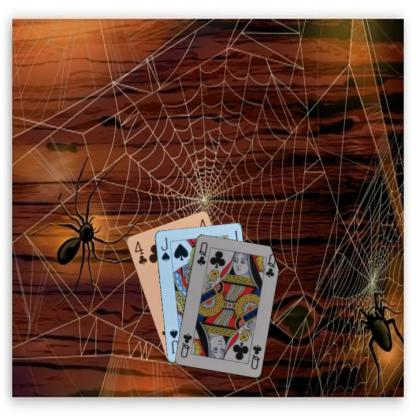4c: (132, 238, 148, 266)
Js: (158, 235, 170, 262)
Qc: (194, 239, 209, 266), (248, 342, 262, 370)
